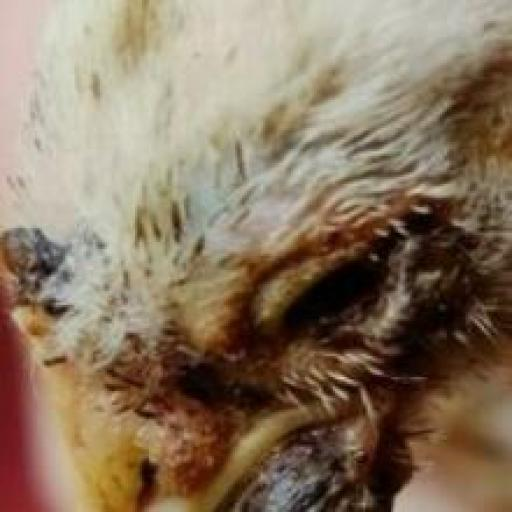disease: (2, 208, 133, 382), (169, 323, 314, 453)
